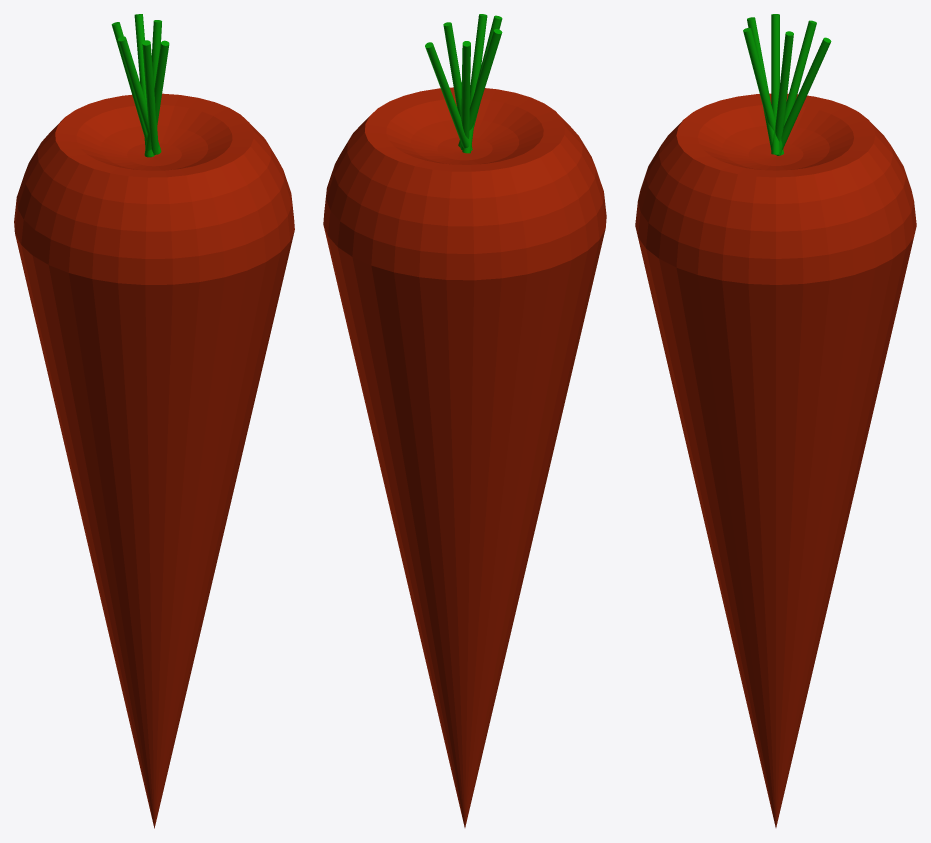
Rendered from carotte.obj.
3 views of the same model, side by side, from view 1: azimuth 30°, elevation 25°; view 2: azimuth 150°, elevation 25°; view 3: azimuth 270°, elevation 25° (orthographic).
Parts seen in each view (by area): view 1: Cone, Sphere, Cylinder, Cylinder.004, Cylinder.006, Cylinder.002; view 2: Cone, Sphere, Cylinder.002, Cylinder.004, Cylinder.003, Cylinder.006, Cylinder.001; view 3: Cone, Sphere, Cylinder.004, Cylinder.002, Cylinder.001, Cylinder.006, Cylinder.003.
Part boxes in pixels (x1,y1,x2,y2): Cone: (15, 231, 294, 828); Sphere: (14, 93, 294, 284); Cylinder: (142, 40, 158, 154); Cylinder.004: (118, 36, 161, 154); Cylinder.006: (144, 40, 169, 157); Cylinder.002: (134, 14, 147, 154); Cone: (323, 225, 605, 827); Sphere: (323, 87, 606, 280); Cylinder.002: (425, 42, 472, 150); Cylinder.004: (458, 29, 502, 147); Cylinder.003: (460, 41, 470, 150); Cylinder.006: (462, 14, 487, 153); Cylinder.001: (443, 22, 472, 150); Cone: (638, 238, 913, 827); Sphere: (635, 93, 916, 284); Cylinder.004: (771, 14, 779, 154); Cylinder.002: (781, 37, 831, 149); Cylinder.001: (775, 31, 793, 154); Cylinder.006: (743, 28, 783, 155); Cylinder.003: (778, 20, 816, 154).
Size of the model in its own units: 2 by 6.28 by 2.
